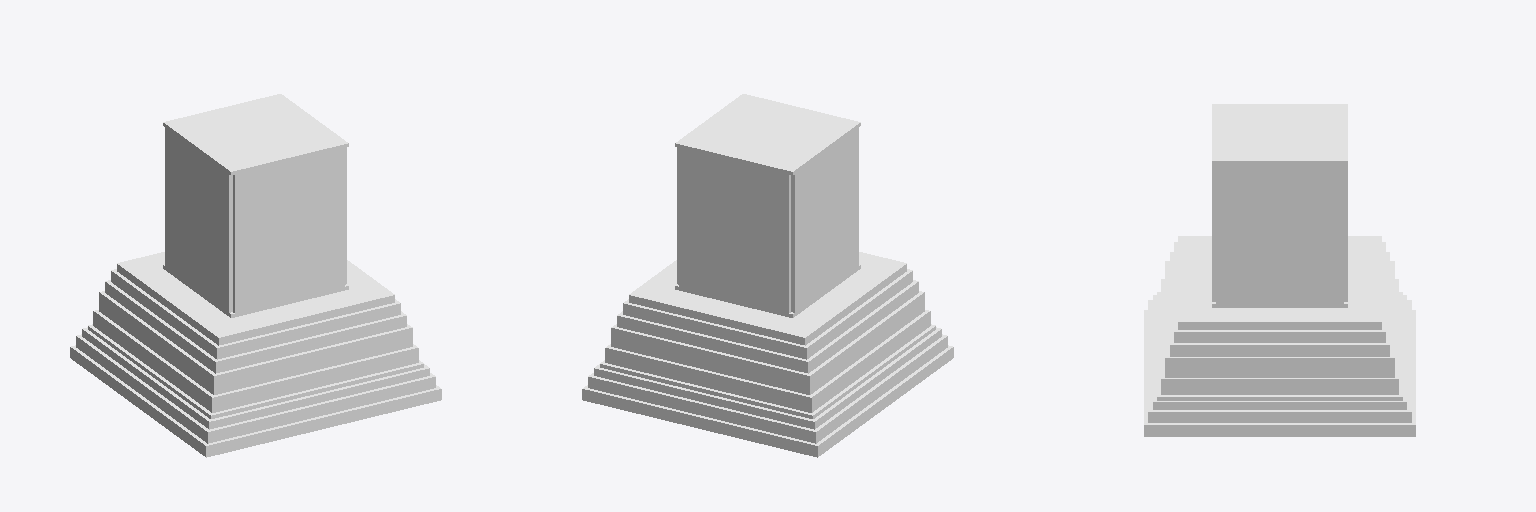
File: box_chute.obj
3 views of the same model, side by side, from view 1: azimuth 30°, elevation 25°; view 2: azimuth 150°, elevation 25°; view 3: azimuth 270°, elevation 25° (orthographic).
Visible parts, largest first — view 1: object 1; view 2: object 1; view 3: object 1.
Part boxes in pixels (x1,y1,x2,y2): object 1: (70, 94, 441, 457); object 1: (582, 94, 953, 457); object 1: (1144, 104, 1415, 436).
Bounding box in the file's own units: 6.4 × 6.4 × 6.4.